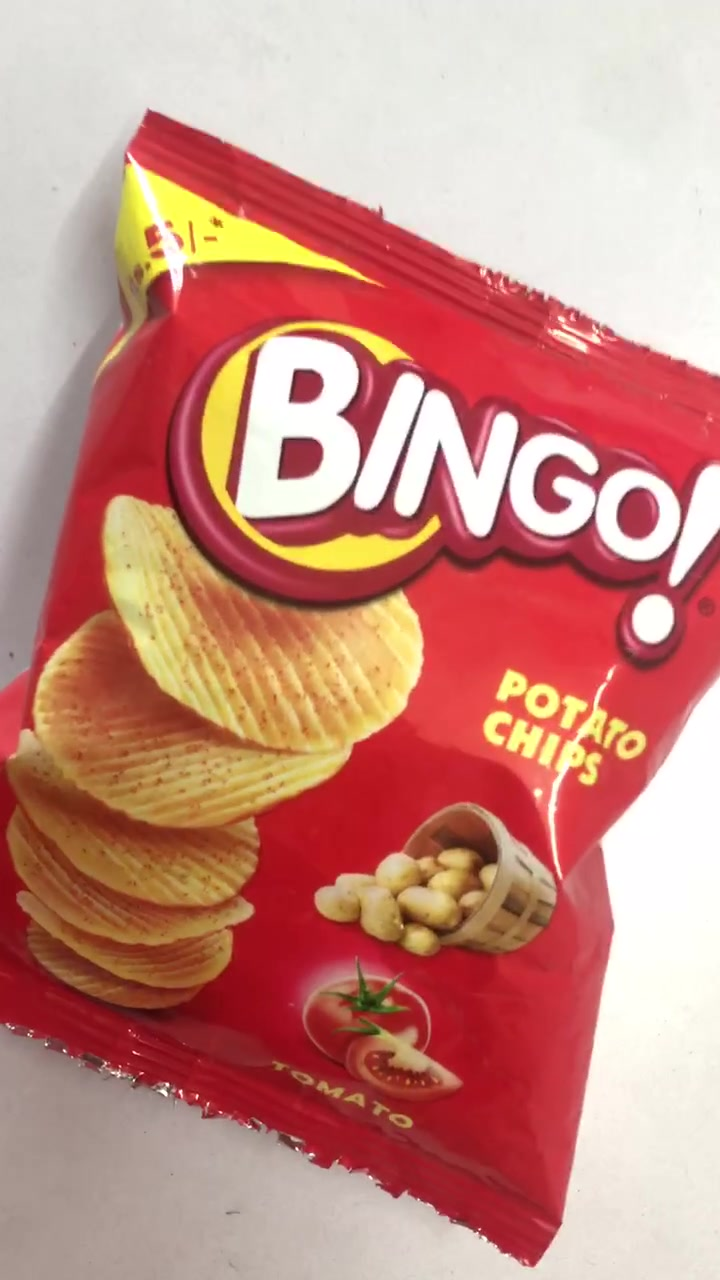Bingo: (8, 109, 720, 1226)
